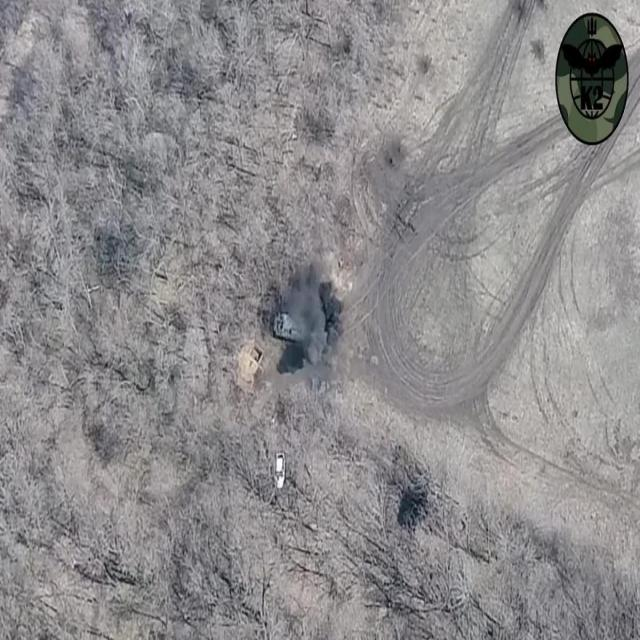cars: (276, 451, 286, 489)
destroyed: (273, 311, 311, 342)
